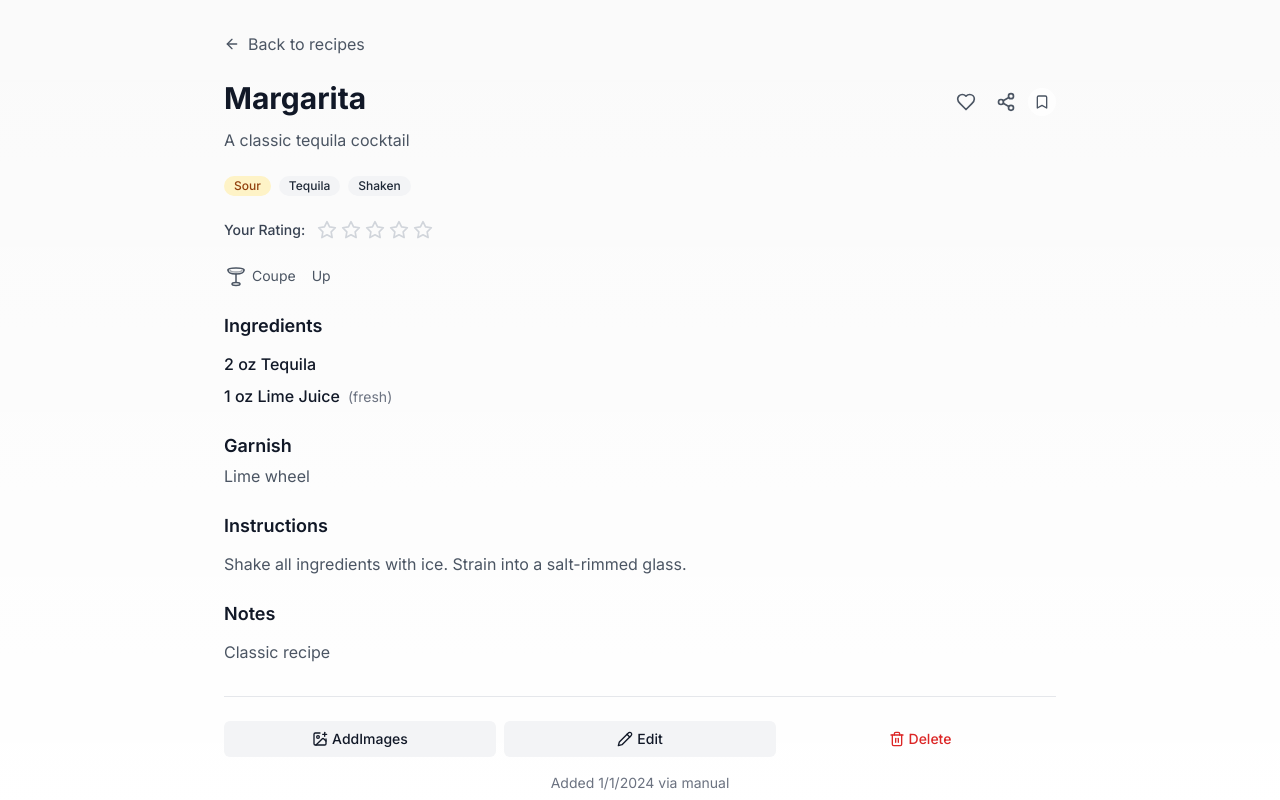
Test case: RecipeDetailPage - Admin Controls › delete button opens confirmation modal instead of browser confirm
This screenshot has width=1280, height=800.
What coordinates should you click on to do the following:
click the button "Delete"
I would click on:
 (920, 739)
Its box is [784,721,1056,757].
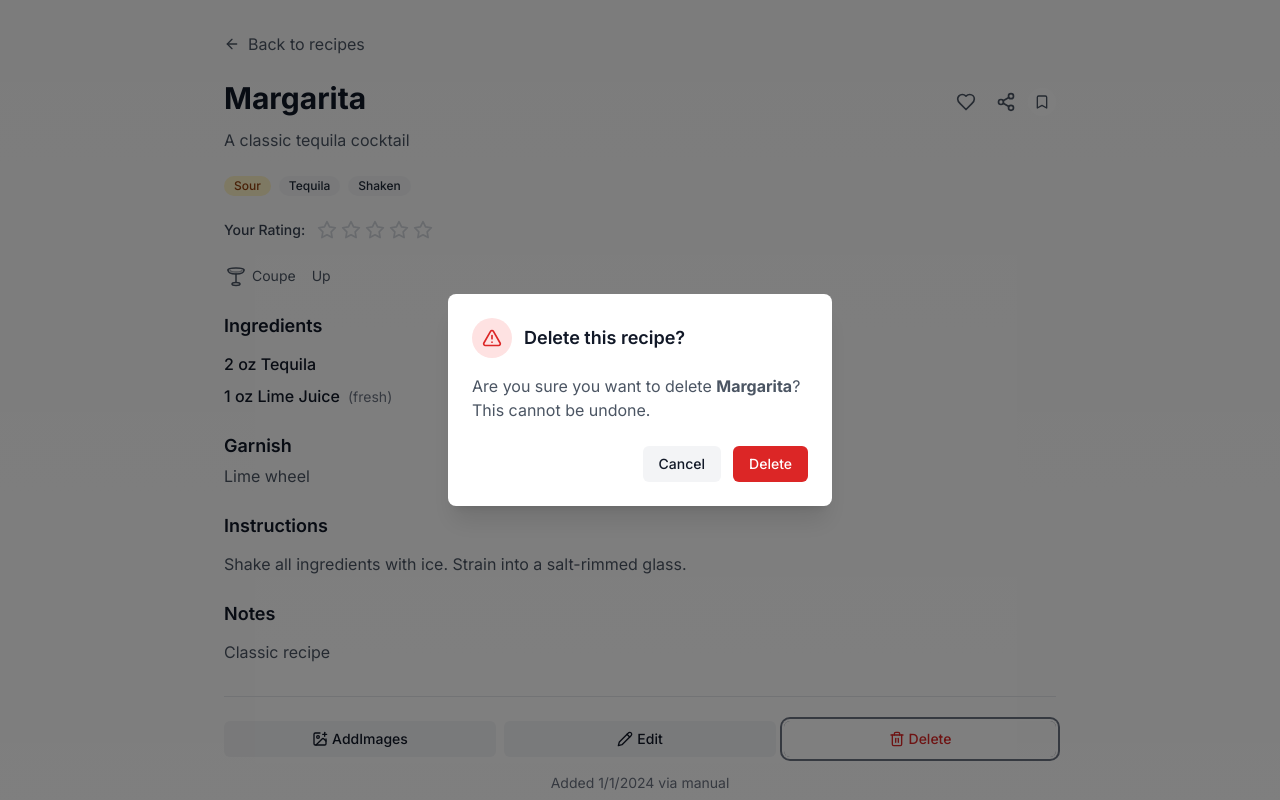
Now the heading "Delete this recipe?" is shown, box [524,324,685,352]
Now the text "Are you sure you want to delete" is shown, box [472,376,716,396]
